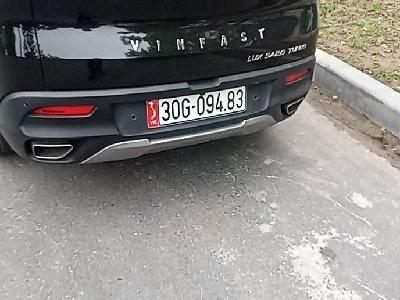car: (145, 85, 247, 129)
